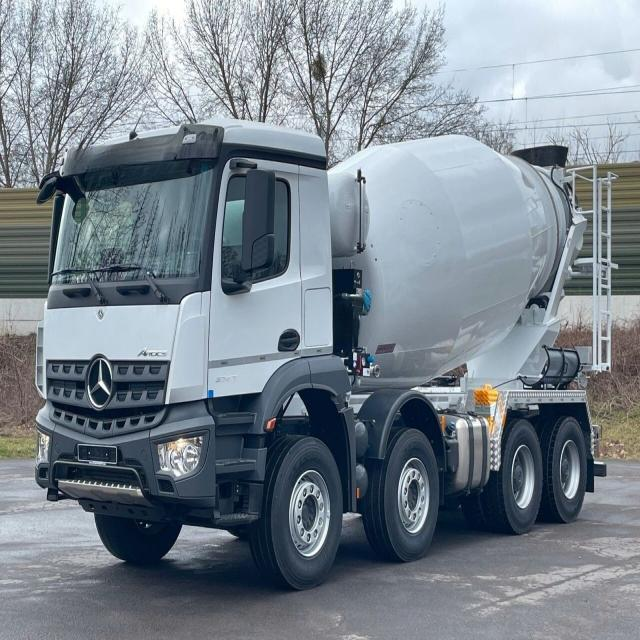truck: (34, 120, 600, 588)
